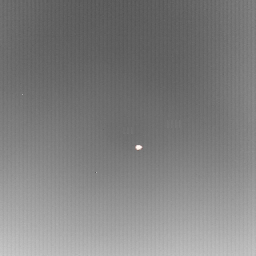Target: (133, 144, 143, 152)
